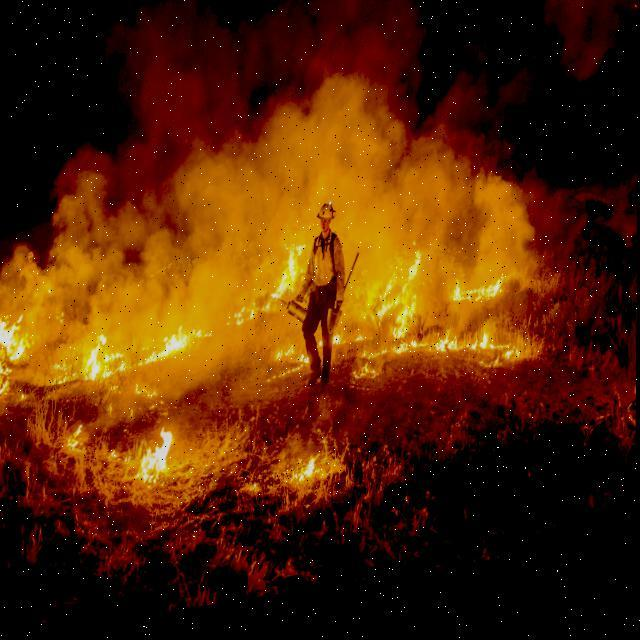Fire: (3, 202, 535, 444), (129, 432, 184, 499)
